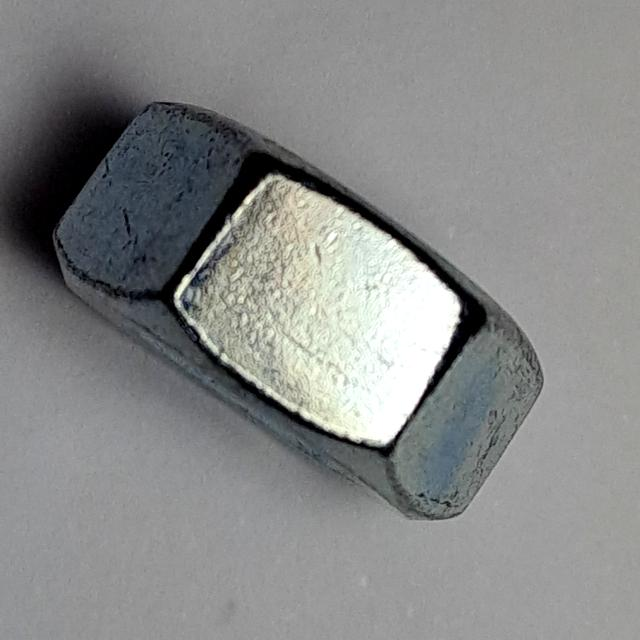Side_Excellent: (42, 90, 563, 541)
